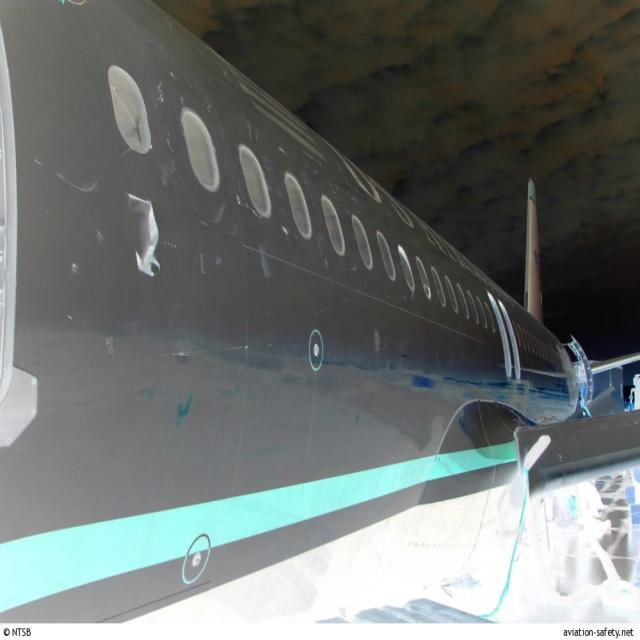crack: (123, 187, 164, 281)
